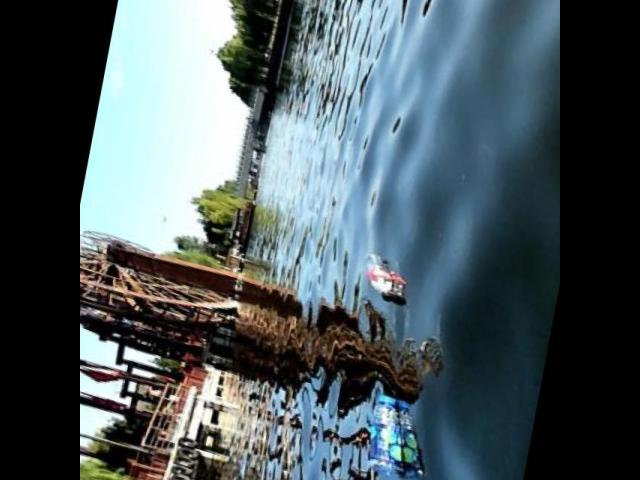Bottle: (368, 388, 410, 480), (358, 246, 403, 306)
